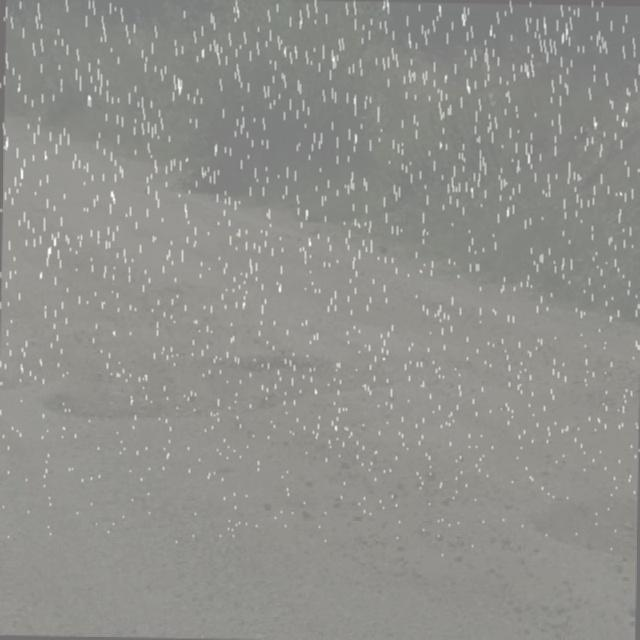Pothole: (0, 345, 325, 433), (516, 457, 640, 612)
